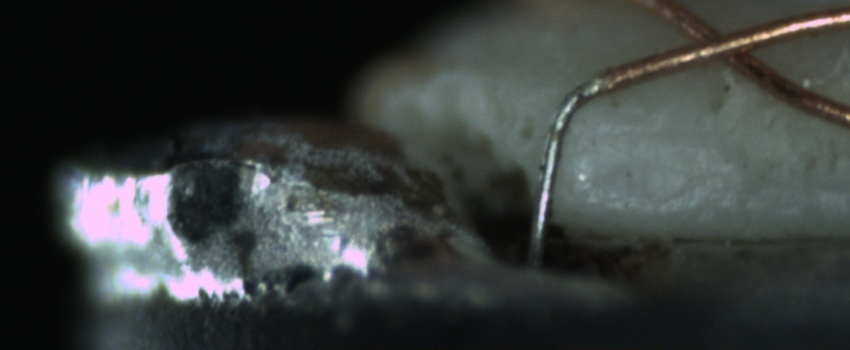CL: (678, 13, 777, 77)
DL: (583, 97, 729, 158)
TS: (527, 72, 608, 277)
TTCW: (522, 59, 643, 263)
